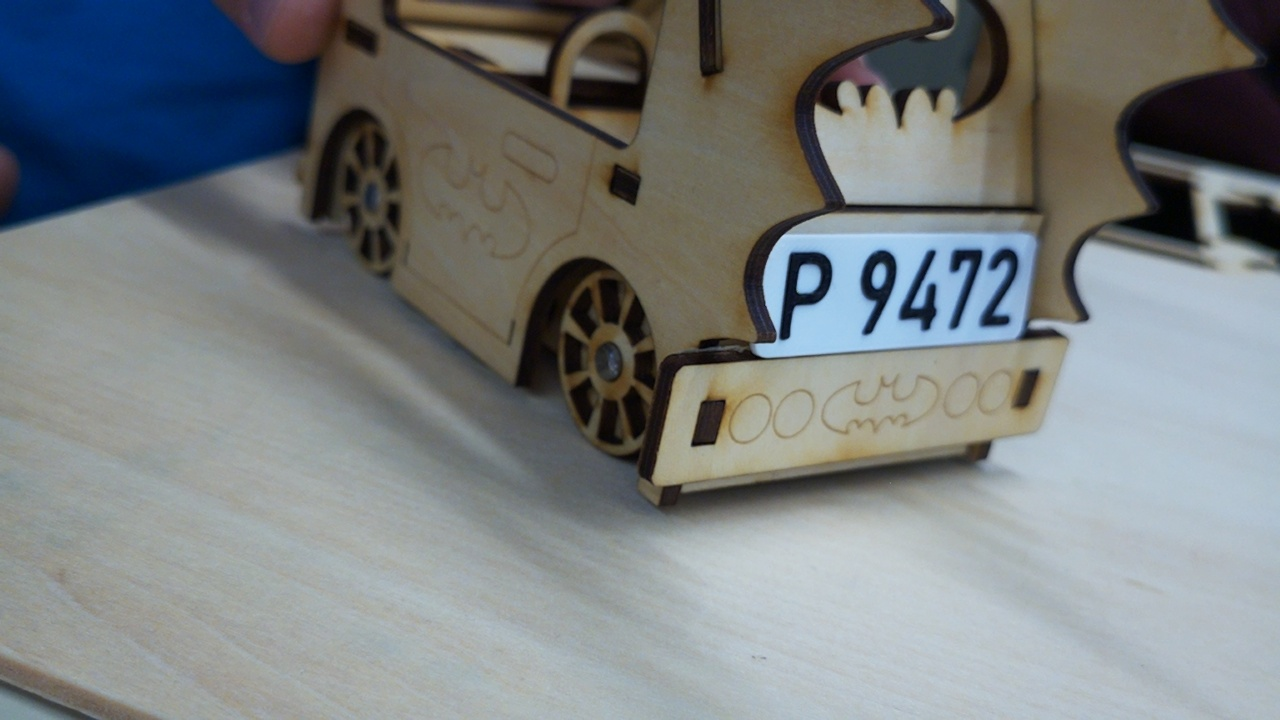license_plate: (745, 230, 1040, 360)
